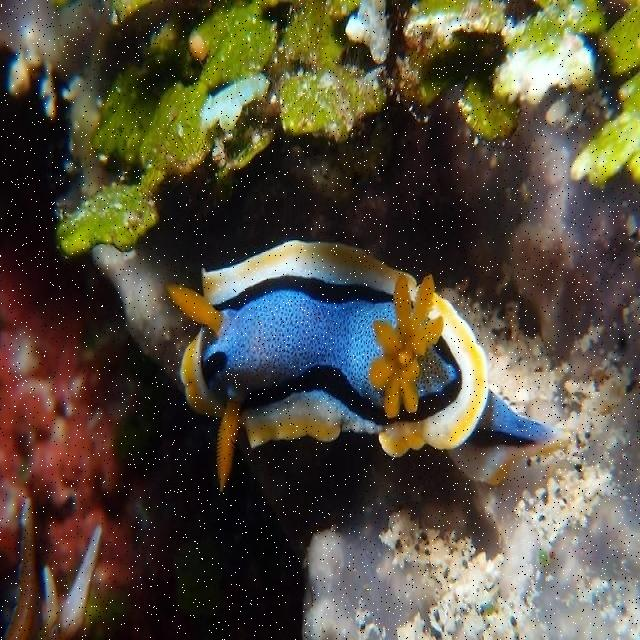reefs: (1, 0, 639, 638), (167, 241, 556, 491)
